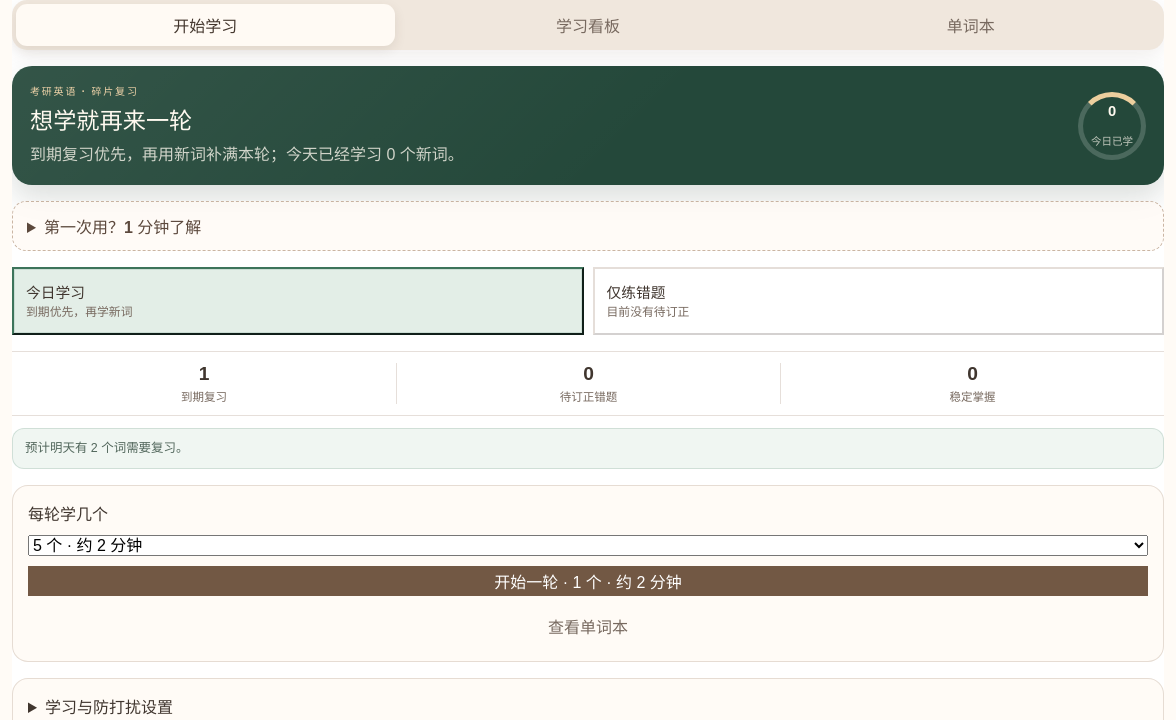
learning micro-session › translates a stale availability race instead of exposing backend validation
Step 1. Click the button "开始一轮 · 1 个 · 约 2 分钟" → (588, 581), box [28,566,1148,596]
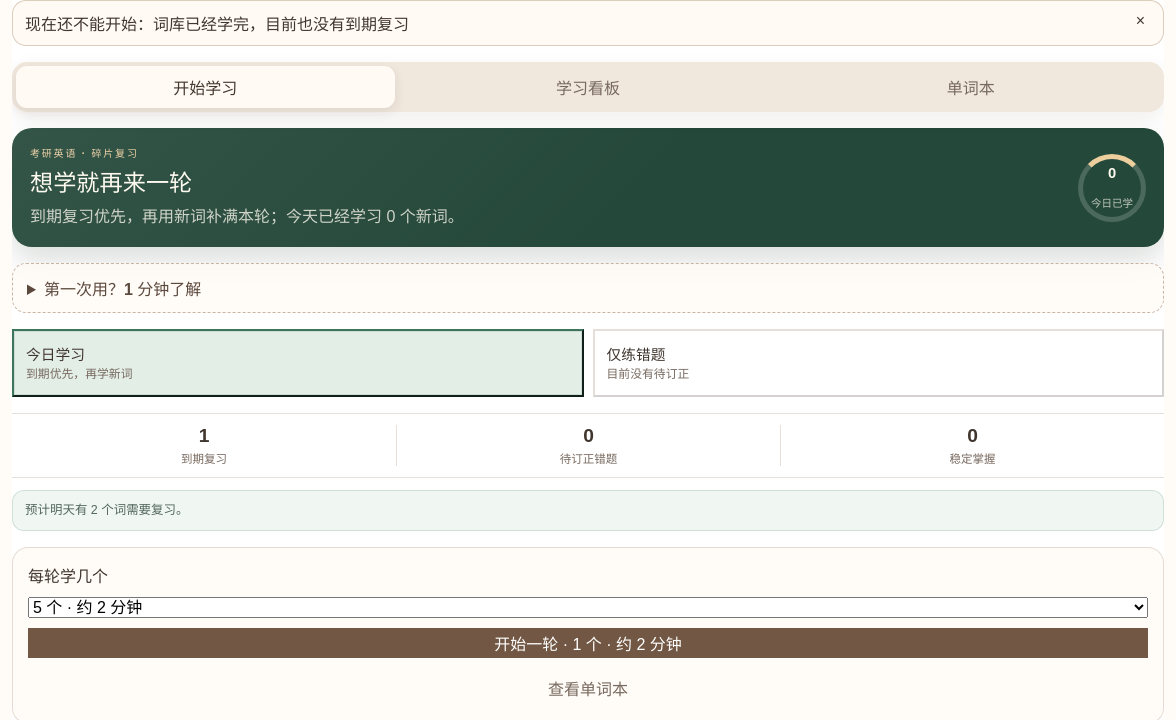
expect the text "现在还不能开始：词库已经学完，目前也没有到期复习" is shown: met, box [25,11,409,35]
